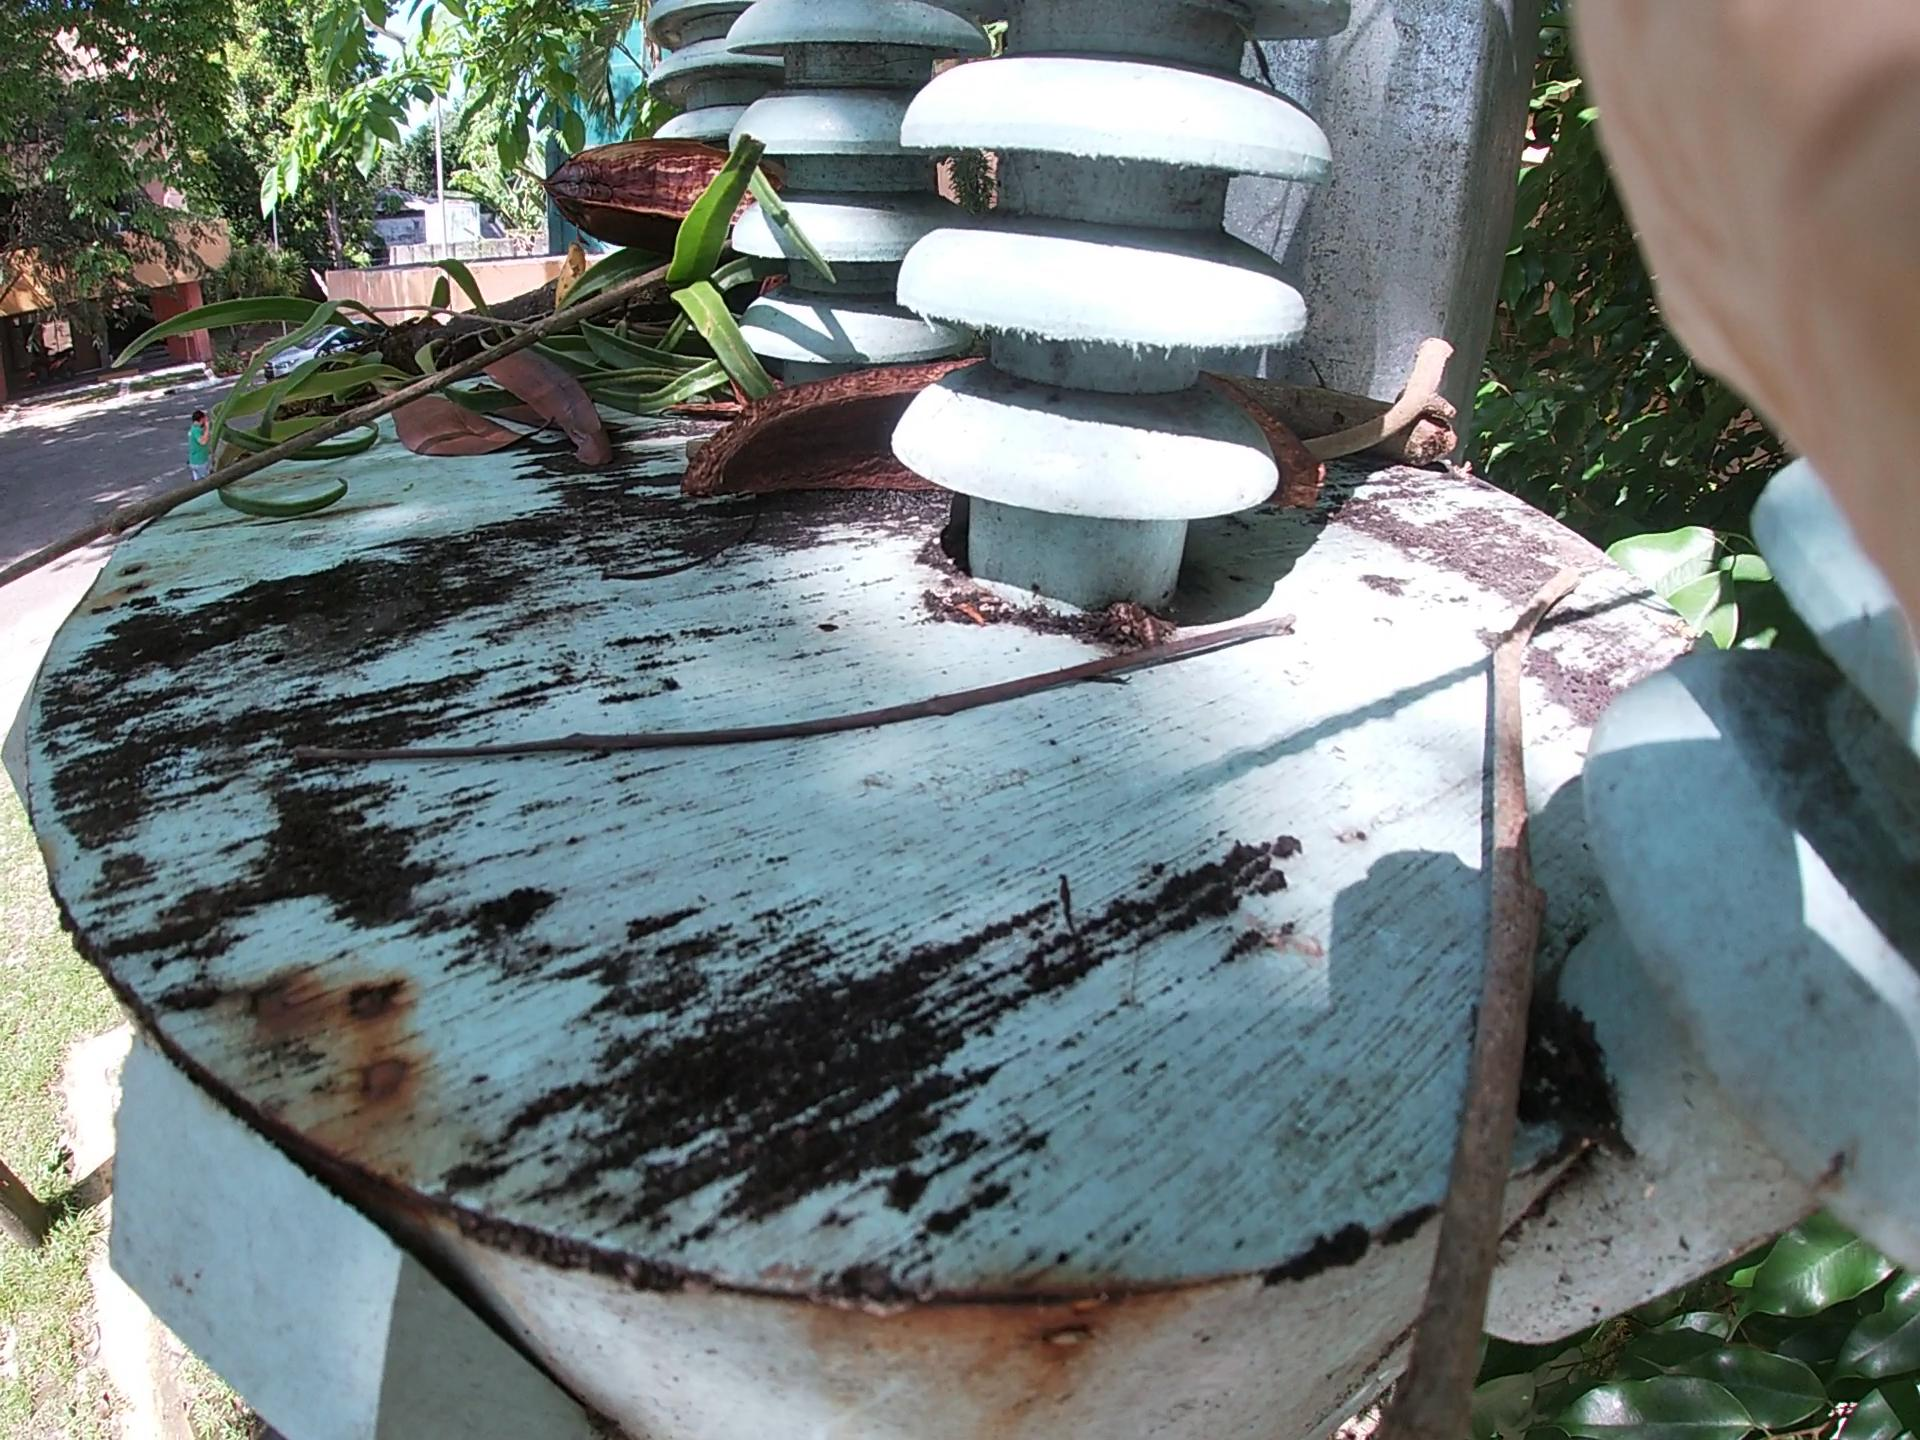branch with leaves: (178, 172, 868, 492)
leaf: (399, 324, 694, 489)
mahogany fruit: (614, 377, 1005, 551), (584, 132, 859, 333)
tree branch: (97, 225, 838, 560), (1426, 470, 1568, 1392), (414, 613, 1297, 735), (1293, 293, 1442, 493)
